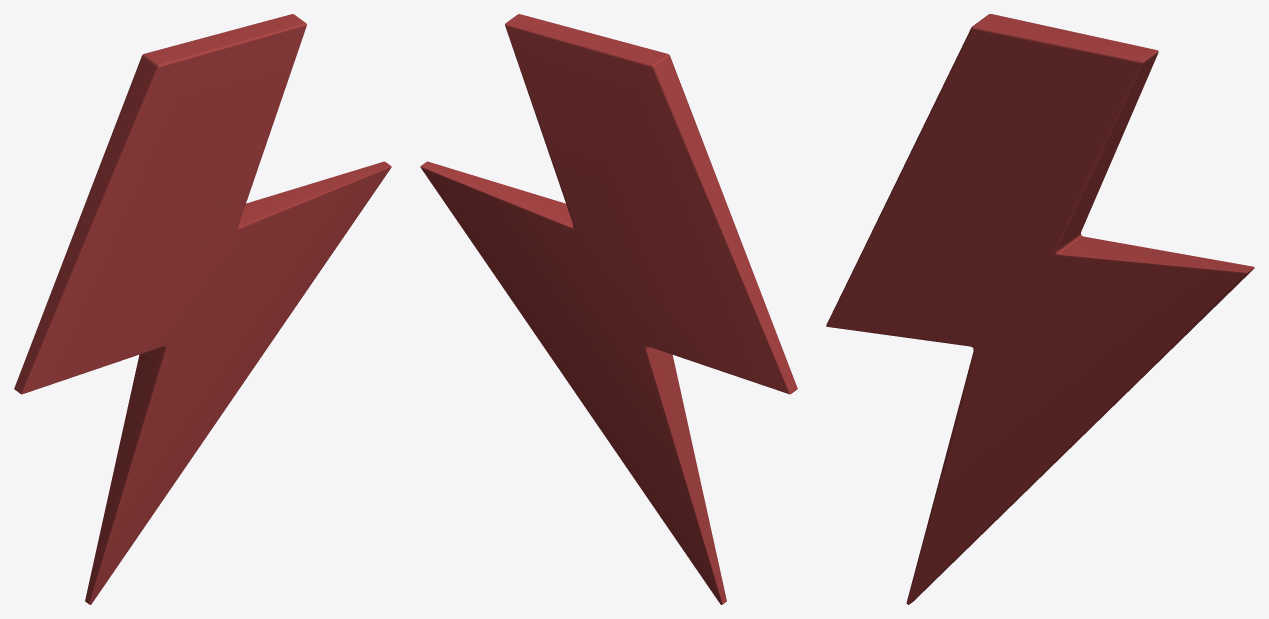
Rendered from Lightning_01.fbx.
3 views of the same model, side by side, from view 1: azimuth 30°, elevation 25°; view 2: azimuth 150°, elevation 25°; view 3: azimuth 330°, elevation 25° (orthographic). The views are drawn at different scales.
Parts seen in each view (by area): view 1: Lightning_01; view 2: Lightning_01; view 3: Lightning_01.
Part boxes in pixels (box(x1,y1,x2,y2)): Lightning_01: box(14, 14, 391, 604); Lightning_01: box(420, 14, 797, 604); Lightning_01: box(826, 14, 1254, 604).
Bounding box in the file's own units: 52.28 × 71.92 × 5.55.
